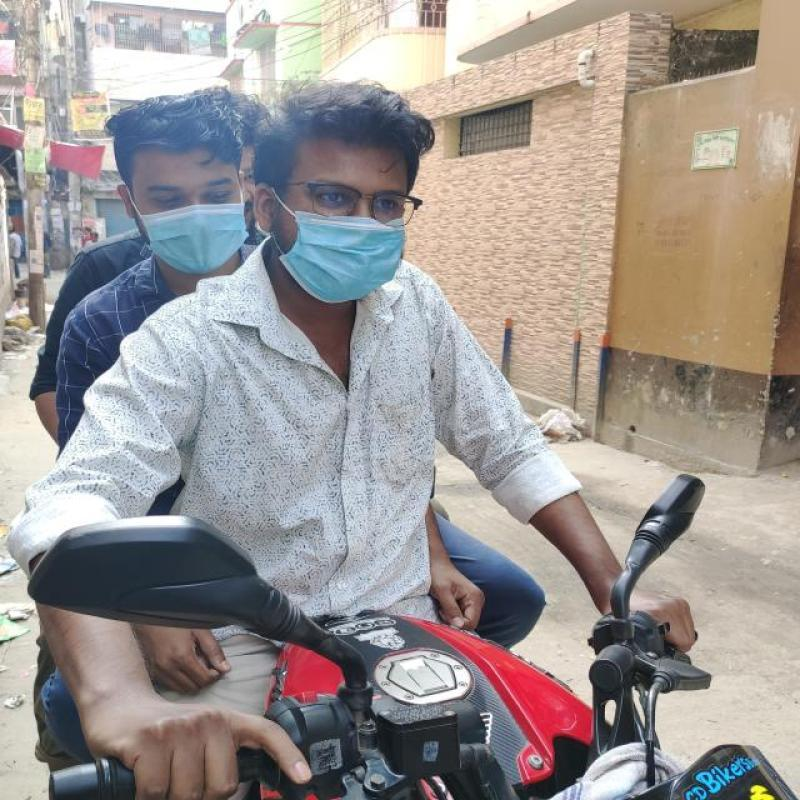nohelmet: (251, 101, 427, 291), (97, 92, 241, 274)
